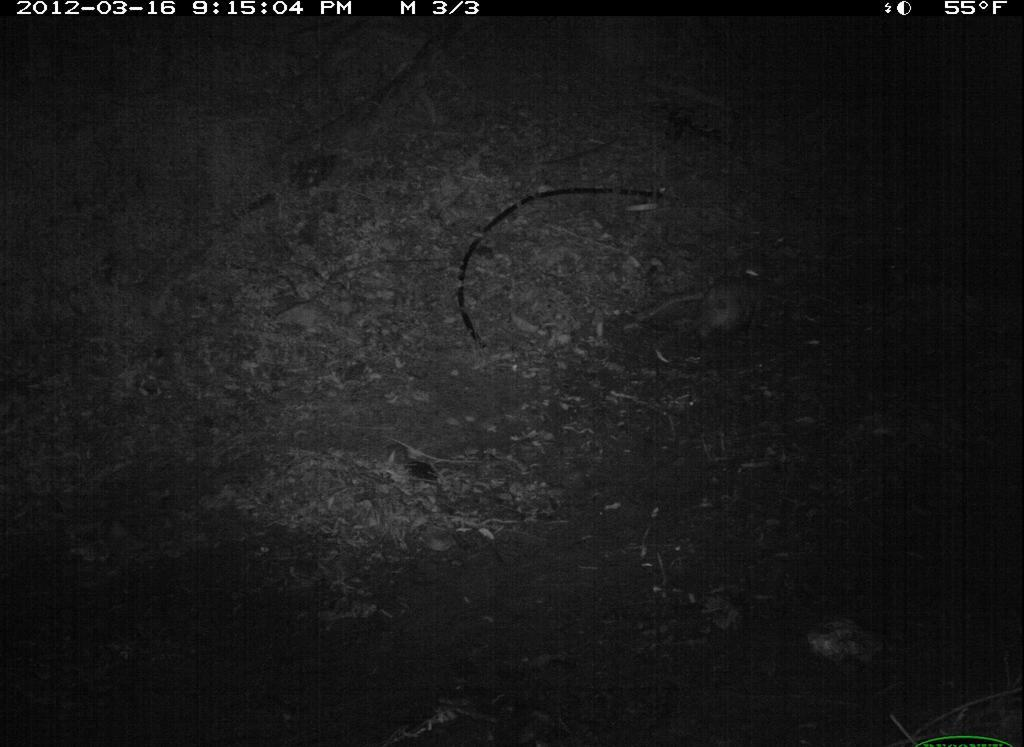opossum: (630, 232, 783, 365)
